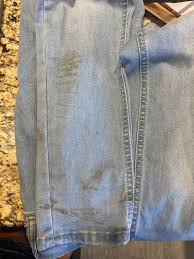earth: (57, 51, 78, 88), (82, 171, 104, 191), (74, 208, 102, 222), (44, 201, 65, 215)
